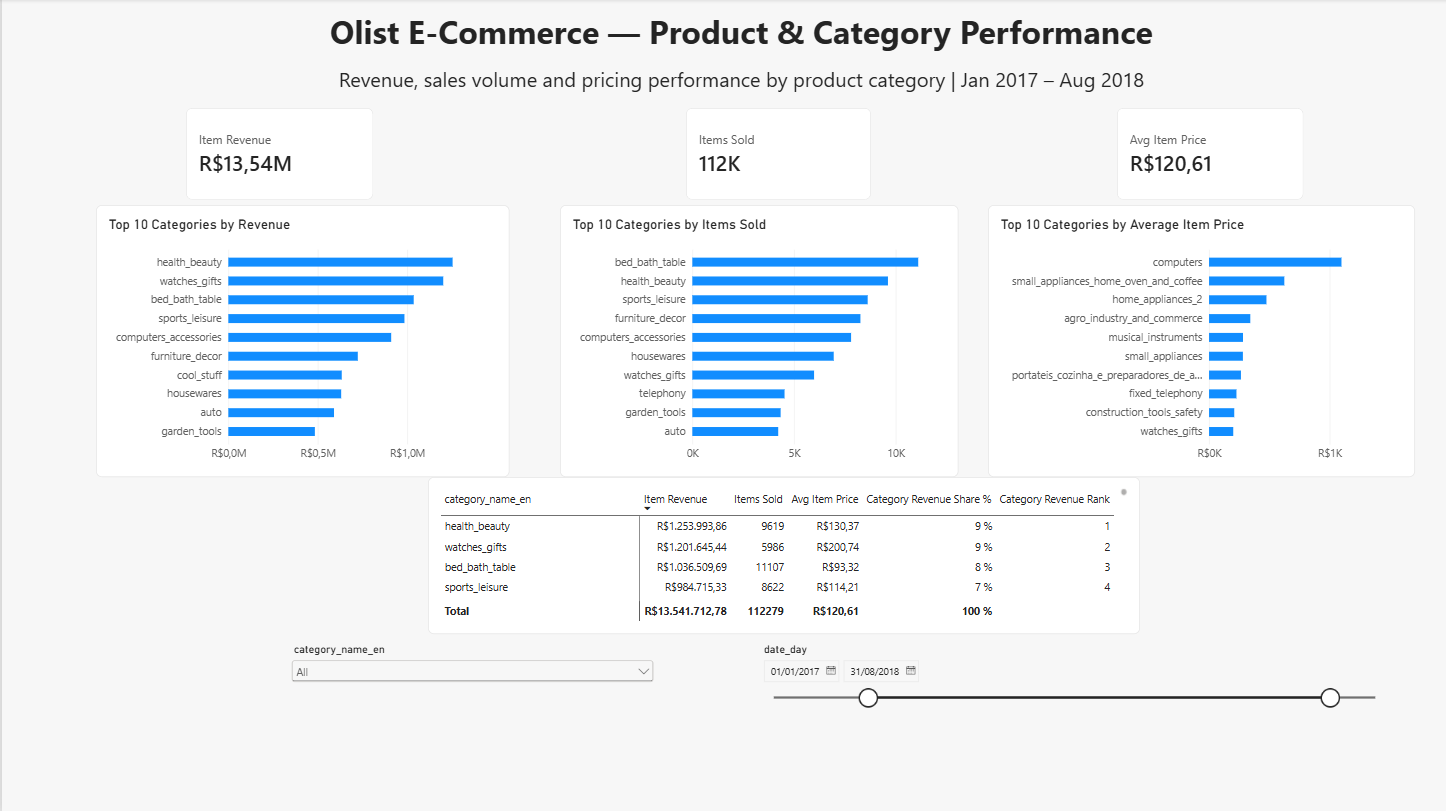

Layout of this report page (visuals, bound fields, positions):
{"tool":"powerbi","page":{"name":"Product & Category Performance","canvas":[1920,1080],"ordinal":3},"visuals":[{"type":"cardVisual","fields":{"Data":["_Measures.Item Revenue"]},"box":[244.7,145.4,249.5,122.6],"z":0},{"type":"cardVisual","fields":{"Data":["_Measures.Items Sold"]},"box":[910,145.4,246.6,122.6],"z":1000},{"type":"cardVisual","fields":{"Data":["_Measures.Avg Item Price"]},"box":[1483.4,145.4,248,122.6],"z":2000},{"type":"clusteredBarChart","title":"Top 10 Categories by Revenue","fields":{"Category":["analytics dim_product.category_name_en"],"Y":["_Measures.Item Revenue"]},"box":[125.1,273.8,550,361.8],"z":3000},{"type":"clusteredBarChart","title":"Top 10 Categories by Items Sold","fields":{"Category":["analytics dim_product.category_name_en"],"Y":["_Measures.Items Sold"]},"box":[742.2,273.8,529.6,361.8],"z":4000},{"type":"clusteredBarChart","title":"Top 10  Categories by Average Item Price","fields":{"Category":["analytics dim_product.category_name_en"],"Y":["_Measures.Avg Item Price"]},"box":[1311.4,274,567.5,361.8],"z":5000},{"type":"pivotTable","fields":{"Rows":["analytics dim_product.category_name_en"],"Values":["_Measures.Item Revenue","_Measures.Items Sold","_Measures.Avg Item Price","_Measures.Category Revenue Share %","_Measures.Category Revenue Rank"]},"box":[567.2,635.6,946.9,208.6],"z":6000},{"type":"slicer","fields":{"Values":["analytics dim_product.category_name_en"]},"box":[380.4,856.6,490.8,106.4],"z":7000},{"type":"slicer","fields":{"Values":["analytics dim_date.date_day"]},"box":[1005.5,856.6,839.3,179.6],"z":8000},{"type":"textbox","box":[75.8,13.3,1815.5,89.1],"z":9000},{"type":"textbox","box":[75.8,87.8,1815.5,57.2],"z":10000}]}

Visuals, with their boxes in screenshot pixels (x1, y1, x2, y2), scaled from the page's 1920x1080 canvas onto the 1446x811 screenshot:
cardVisual - _Measures.Item Revenue: locate(184, 109, 372, 201)
cardVisual - _Measures.Items Sold: locate(685, 109, 871, 201)
cardVisual - _Measures.Avg Item Price: locate(1117, 109, 1304, 201)
"Top 10 Categories by Revenue" clusteredBarChart: locate(94, 206, 508, 477)
"Top 10 Categories by Items Sold" clusteredBarChart: locate(559, 206, 958, 477)
"Top 10  Categories by Average Item Price" clusteredBarChart: locate(988, 206, 1415, 477)
pivotTable - analytics dim_product.category_name_en x _Measures.Item Revenue: locate(427, 477, 1140, 634)
slicer - analytics dim_product.category_name_en: locate(286, 643, 656, 723)
slicer - analytics dim_date.date_day: locate(757, 643, 1389, 778)
textbox: locate(57, 10, 1424, 77)
textbox: locate(57, 66, 1424, 109)
